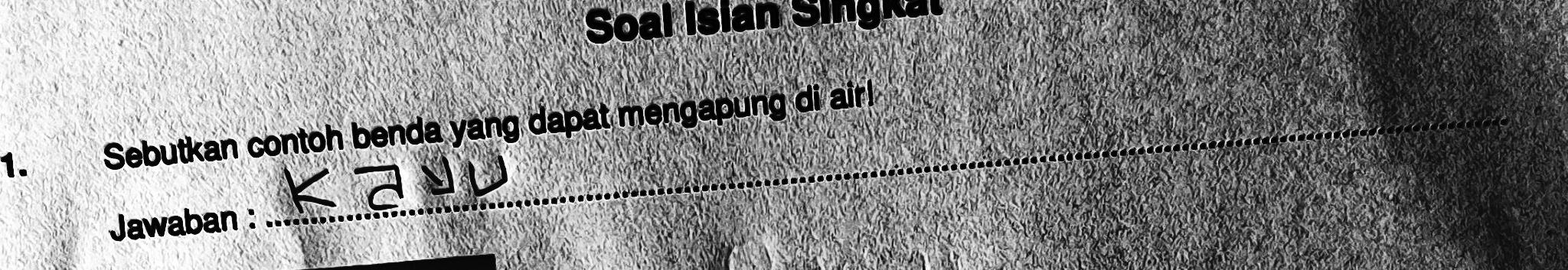jawaban: (276, 149, 514, 225)
